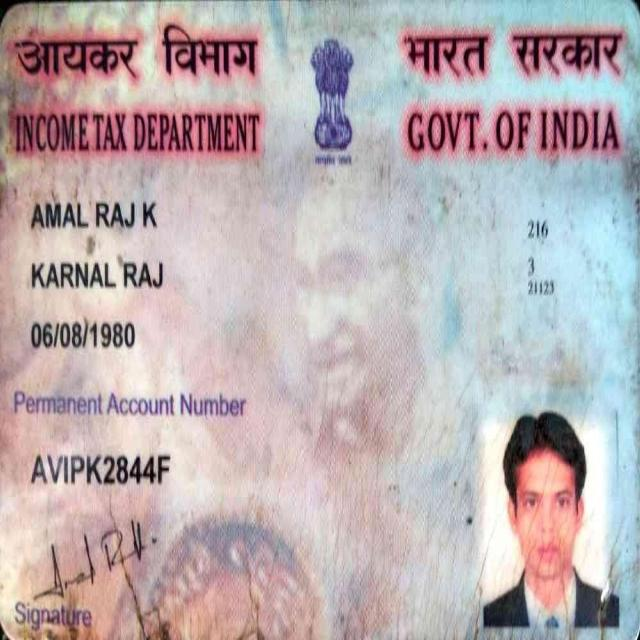pan_card: (3, 5, 640, 640)
